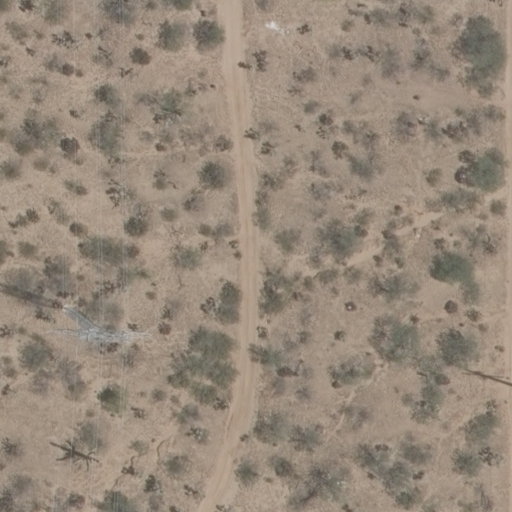TT: (47, 309, 150, 353)
